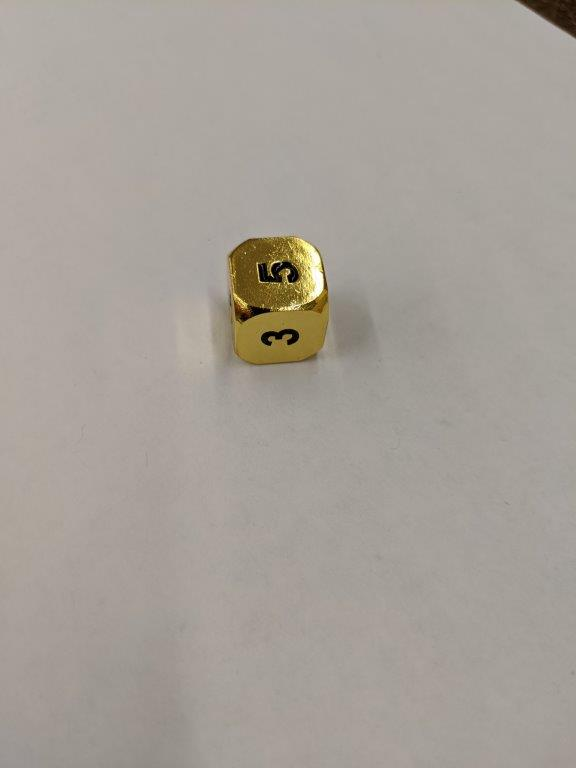d6-5: (227, 233, 330, 367)
